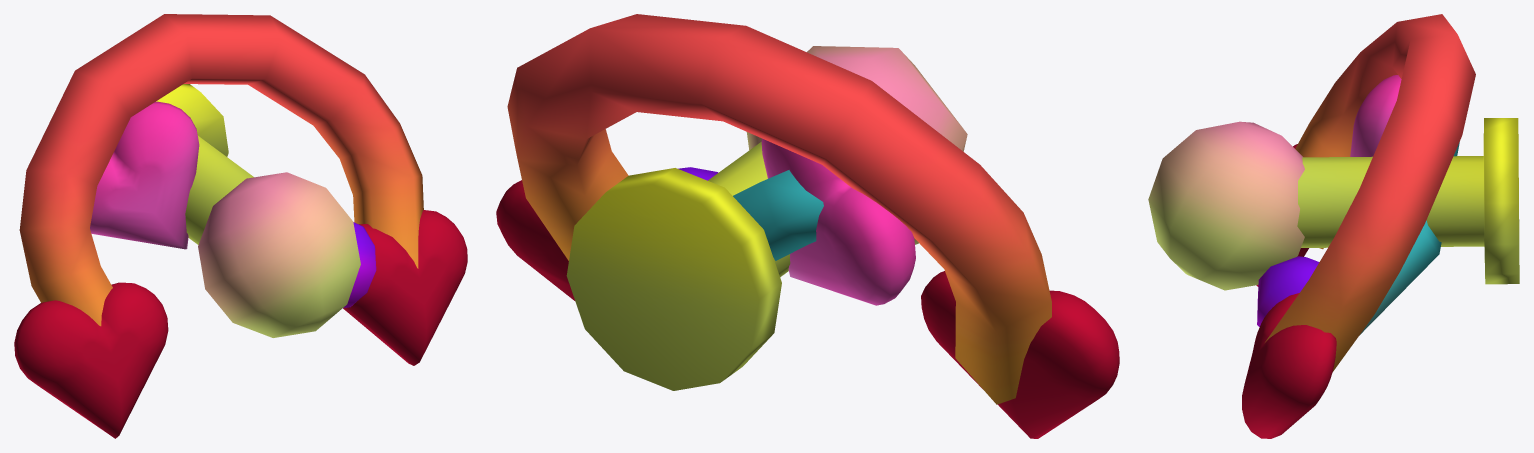
File: ObbyGame_Characters_piercings_.fbx
3 views of the same model, side by side, from view 1: azimuth 30°, elevation 25°; view 2: azimuth 150°, elevation 25°; view 3: azimuth 270°, elevation 25° (orthographic). The views are drawn at different scales.
Visible parts, largest first — view 1: ObbyGame_Characters_piercing_002, ObbyGame_Characters_piercing_000, ObbyGame_Characters_piercing_001; view 2: ObbyGame_Characters_piercing_002, ObbyGame_Characters_piercing_000, ObbyGame_Characters_piercing_001; view 3: ObbyGame_Characters_piercing_002, ObbyGame_Characters_piercing_000, ObbyGame_Characters_piercing_001.
Part boxes in pixels (x1,y1,x2,y2): ObbyGame_Characters_piercing_002: (14, 14, 467, 438); ObbyGame_Characters_piercing_000: (156, 84, 360, 337); ObbyGame_Characters_piercing_001: (90, 101, 376, 308); ObbyGame_Characters_piercing_002: (496, 14, 1119, 438); ObbyGame_Characters_piercing_000: (566, 46, 967, 390); ObbyGame_Characters_piercing_001: (678, 138, 915, 305); ObbyGame_Characters_piercing_002: (1242, 14, 1475, 438); ObbyGame_Characters_piercing_000: (1148, 118, 1519, 290); ObbyGame_Characters_piercing_001: (1257, 75, 1459, 335).
Bounding box in the file's own units: 12.99 × 8.91 × 9.14.
1 material, 1 textured.
